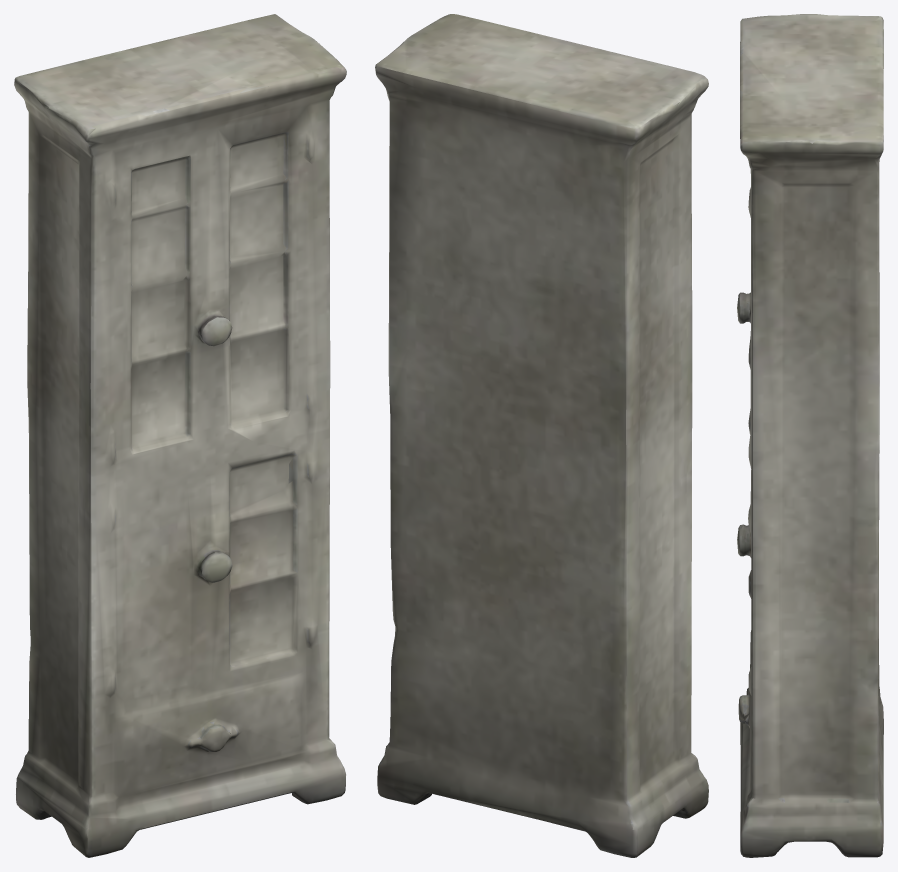
File: simple-white-painted-medicine-cabinet-v001.glb
3 views of the same model, side by side, from view 1: azimuth 30°, elevation 25°; view 2: azimuth 150°, elevation 25°; view 3: azimuth 270°, elevation 25° (orthographic).
Visible parts, largest first — view 1: simple-white-painted-medicine-cabinet; view 2: simple-white-painted-medicine-cabinet; view 3: simple-white-painted-medicine-cabinet.
Part boxes in pixels (x1,y1,x2,y2): simple-white-painted-medicine-cabinet: [14, 14, 346, 857]; simple-white-painted-medicine-cabinet: [375, 14, 708, 857]; simple-white-painted-medicine-cabinet: [737, 14, 883, 857].
Bounding box in the file's own units: 0.6479 × 1.69 × 0.3118.
1 material, 1 textured.
